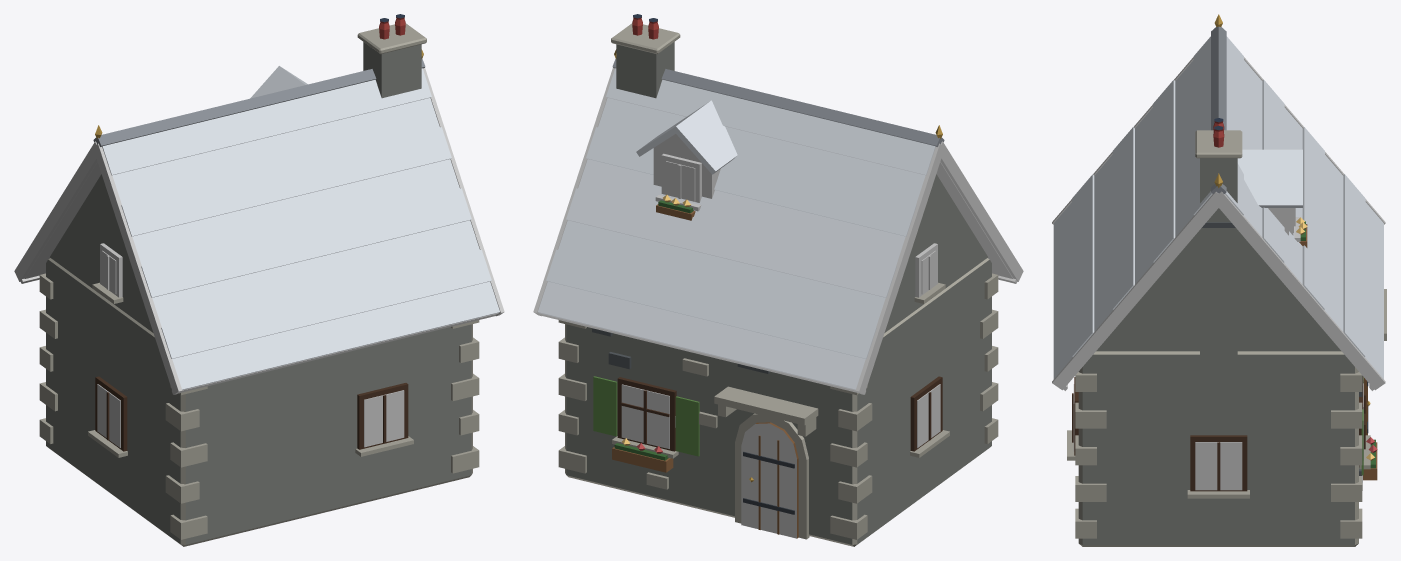
The model's file is StoneCottage.obj.
3 renders of one model, left to right at view 1: azimuth 30°, elevation 25°; view 2: azimuth 150°, elevation 25°; view 3: azimuth 270°, elevation 25°, orthographic.
Size of the model in its own units: 12.38 by 14.82 by 10.76.
